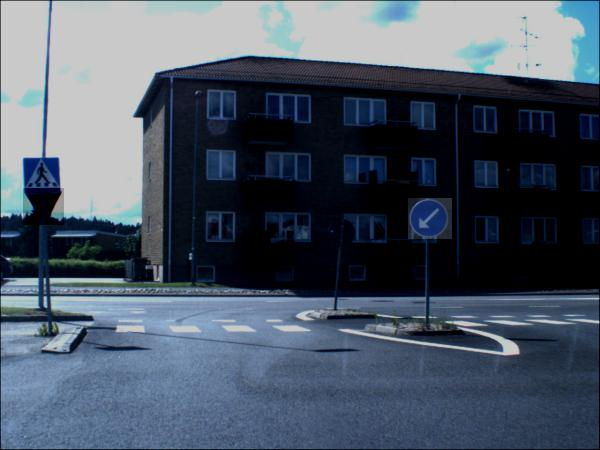GIVE_WAY: (23, 189, 65, 227)
PASS_RIGHT_SIDE: (408, 199, 453, 241)
PEDESTRIAN_CROSSING: (24, 157, 61, 198)
